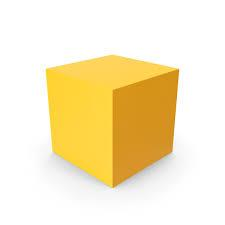cube: (47, 55, 177, 189)
